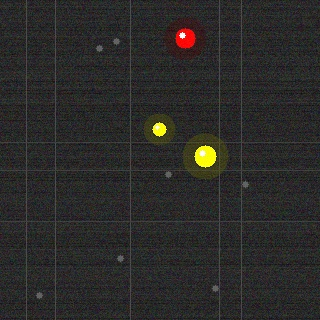red_fault: (173, 26, 197, 50)
yellow_warning: (192, 143, 218, 169), (150, 120, 168, 138)
